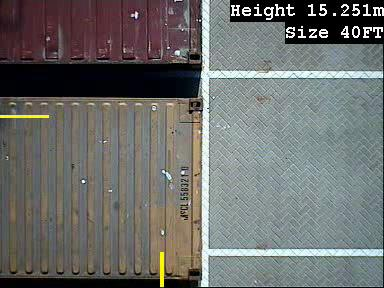groundmarker_2: (202, 182, 241, 235), (201, 10, 240, 63)
